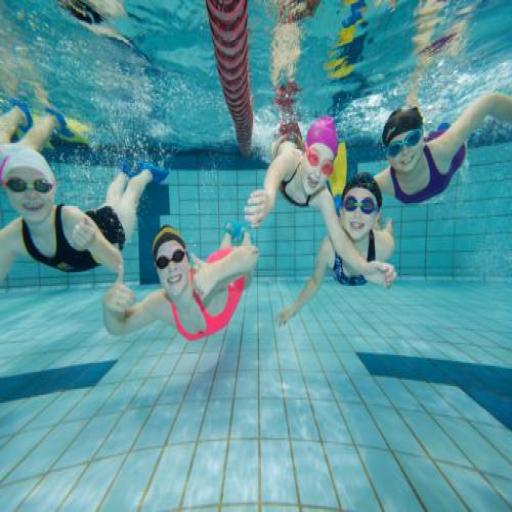swimming: (0, 108, 170, 292), (242, 112, 395, 289), (274, 170, 398, 330), (100, 220, 260, 343), (369, 88, 511, 209)
